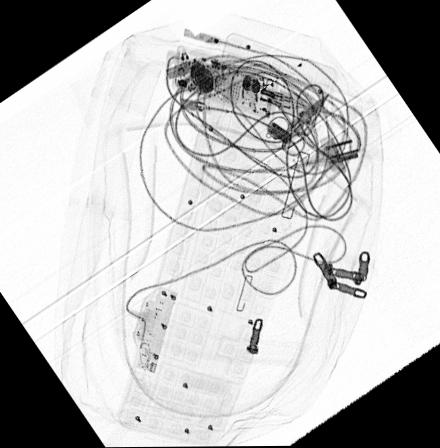Scissors: (264, 92, 328, 157)
